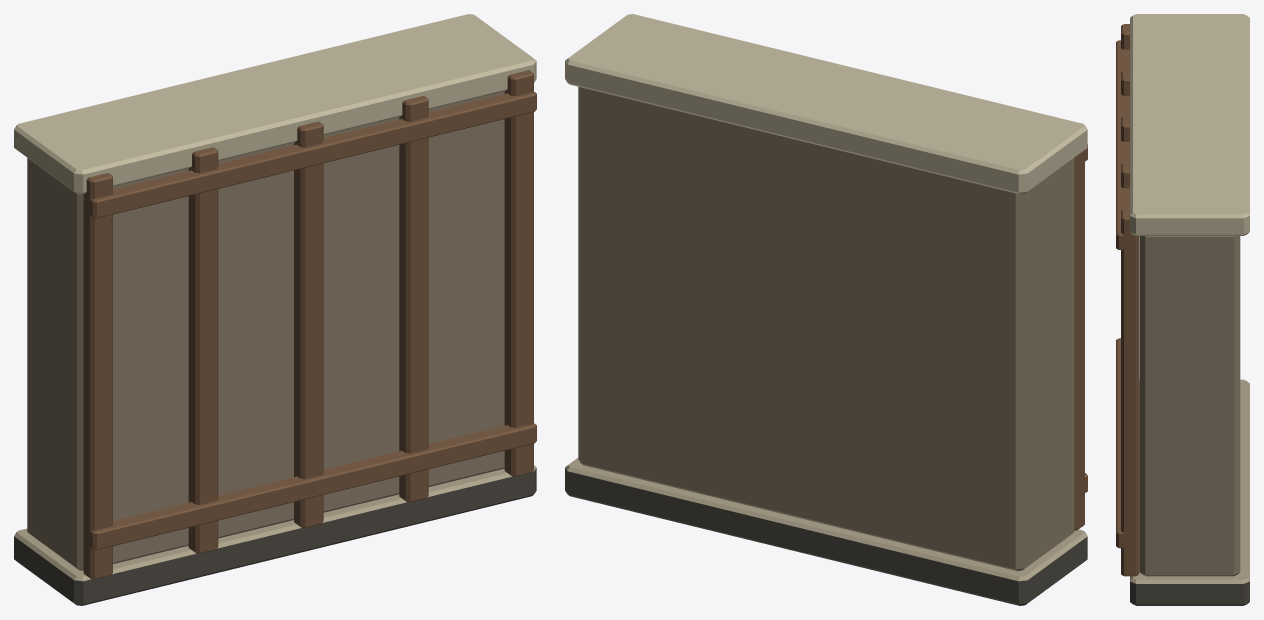
File: wall-tall.glb
3 views of the same model, side by side, from view 1: azimuth 30°, elevation 25°; view 2: azimuth 150°, elevation 25°; view 3: azimuth 270°, elevation 25° (orthographic). The views are drawn at different scales.
Parts seen in each view (by area): view 1: wall-tall__body; view 2: wall-tall__body; view 3: wall-tall__body.
Boxes of the visible parts, left/top/right/bottom form: wall-tall__body: left=14, top=14, right=536, bottom=605; wall-tall__body: left=565, top=14, right=1087, bottom=605; wall-tall__body: left=1116, top=14, right=1249, bottom=605.
Size of the model in its own units: 2 by 1.8 by 0.5575.
